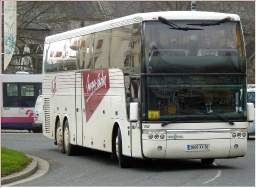bus: (42, 10, 248, 167)
